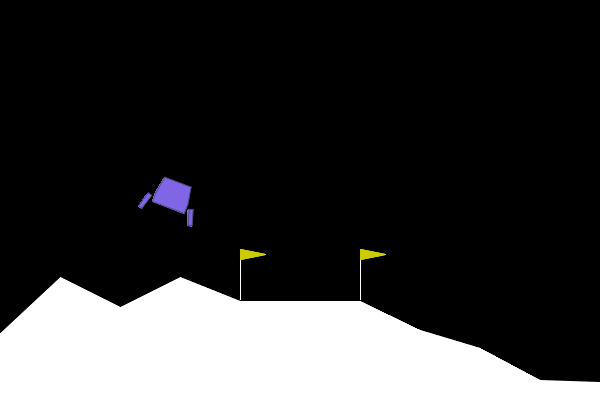lander: (136, 170, 206, 229)
